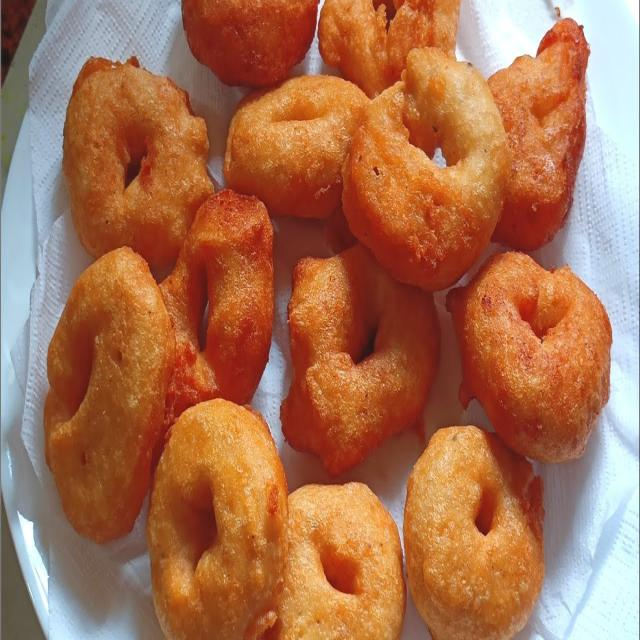MEDU VADA: (342, 48, 510, 291), (44, 248, 175, 541), (280, 244, 439, 474), (446, 252, 612, 462), (148, 399, 288, 639), (62, 58, 214, 276), (404, 426, 544, 639), (160, 190, 274, 428), (488, 19, 590, 250), (272, 482, 406, 639), (224, 76, 369, 218), (318, 0, 460, 98), (182, 0, 319, 87)
